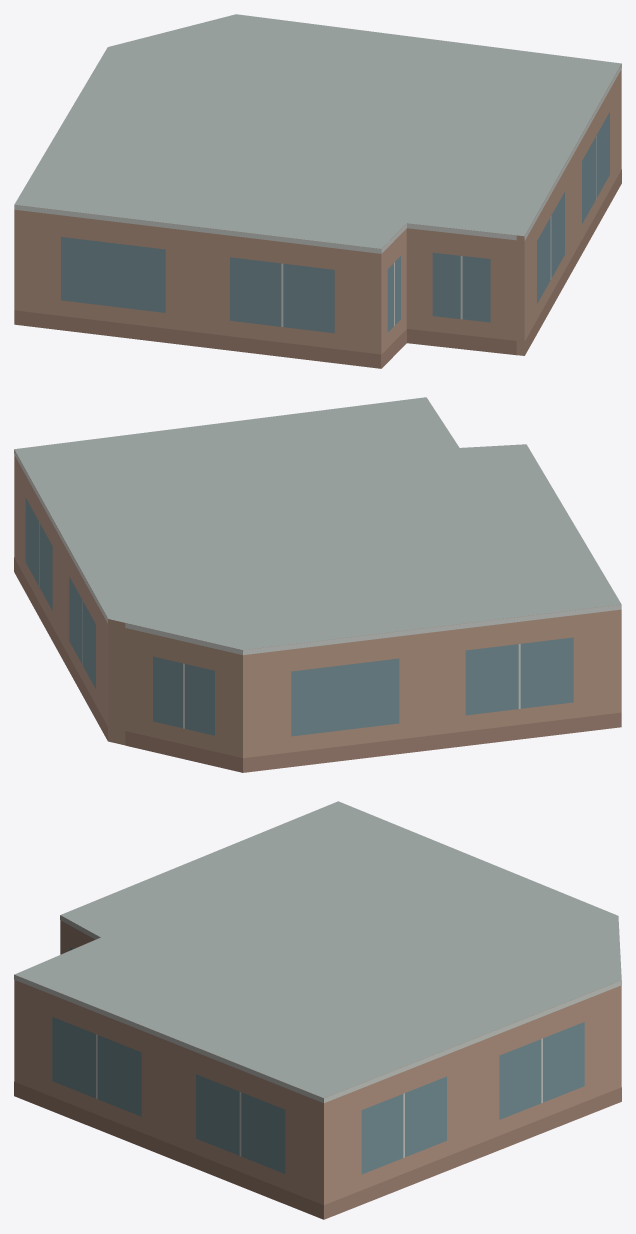
Rendered from survey-upis-32752099.glb.
3 renders of one model, top to bottom at view 1: azimuth 30°, elevation 25°; view 2: azimuth 150°, elevation 25°; view 3: azimuth 270°, elevation 25°, orthographic. The views are drawn at different scales.
Visible parts, largest first — view 1: survey-upis-32752099.tmp; view 2: survey-upis-32752099.tmp; view 3: survey-upis-32752099.tmp.
Boxes of the visible parts, x1,y1,x2,y2 form: survey-upis-32752099.tmp: (14,14,621,368); survey-upis-32752099.tmp: (14,397,621,772); survey-upis-32752099.tmp: (14,801,621,1219).
Size of the model in its own units: 16.01 by 3.05 by 13.84.
